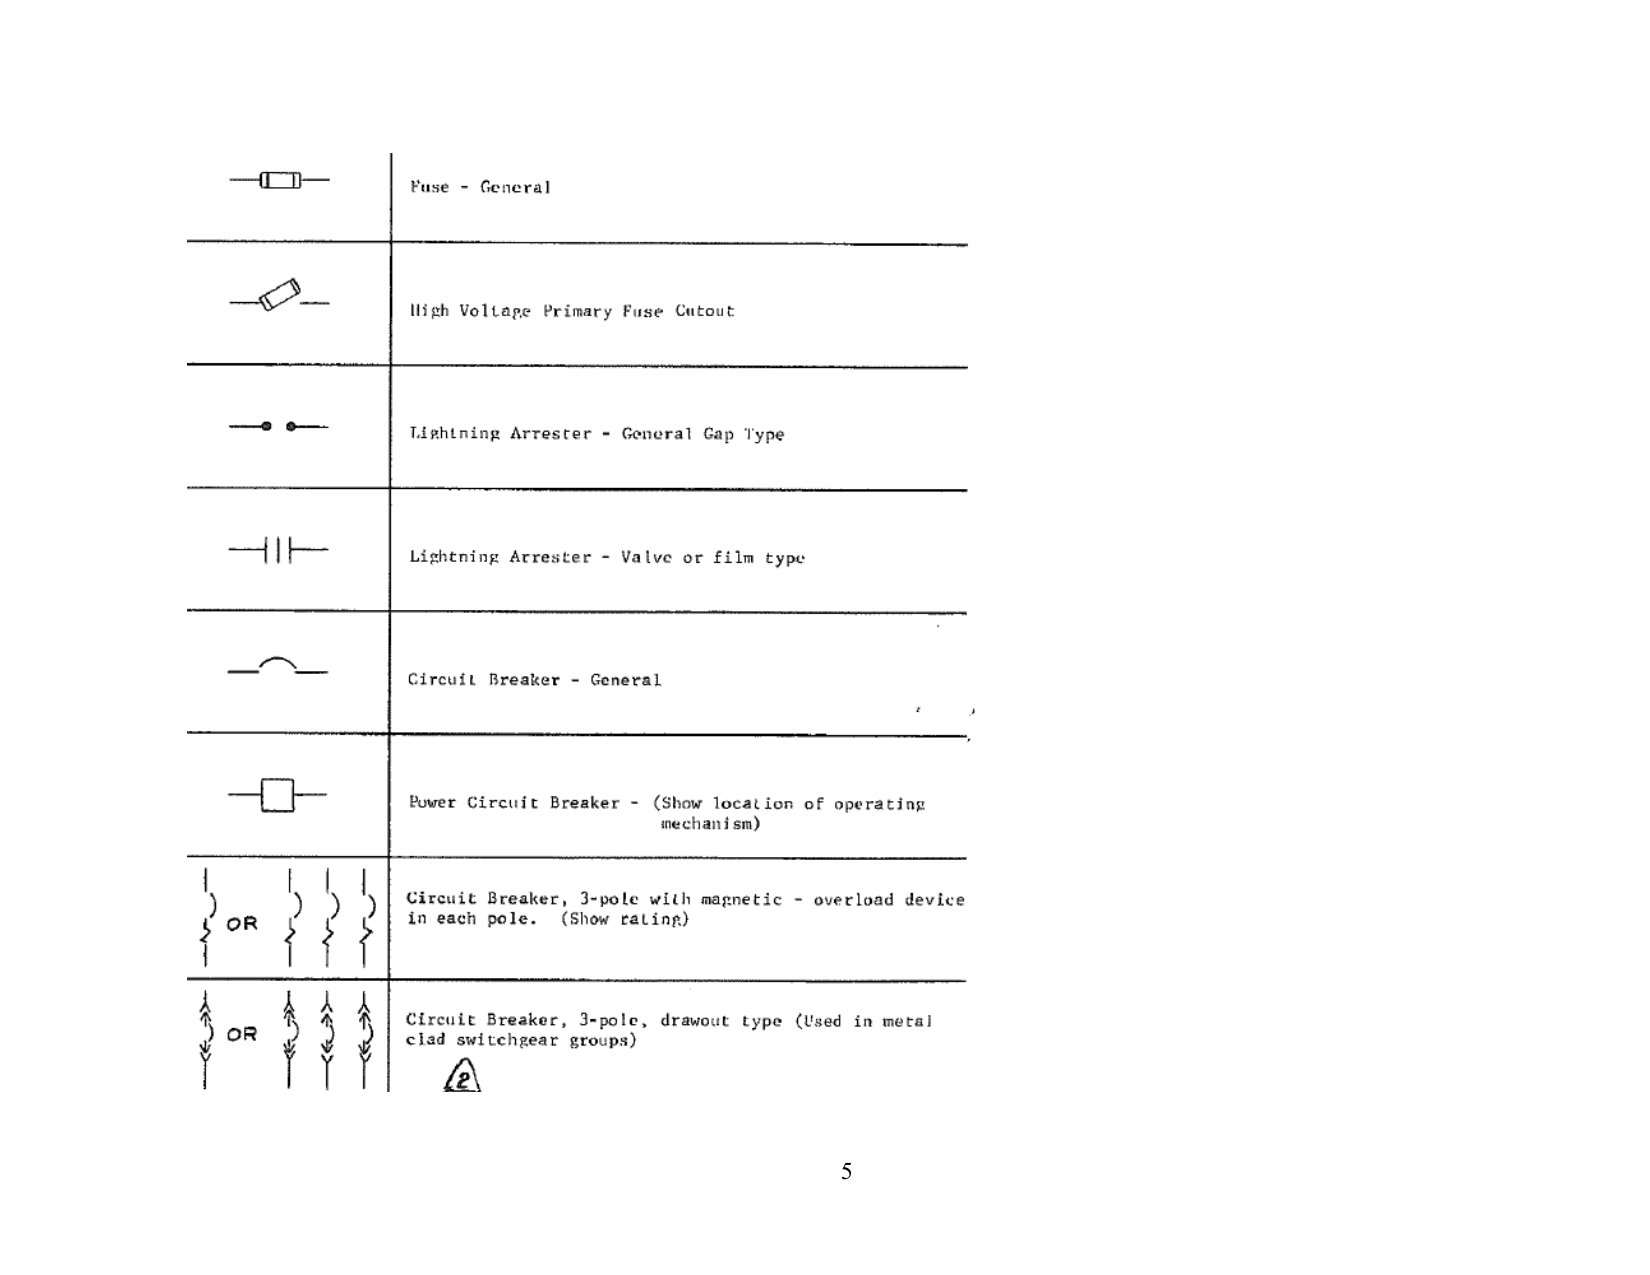circuit_breaker: (271, 862, 383, 979), (182, 636, 350, 702), (277, 992, 386, 1092), (173, 984, 221, 1085), (183, 862, 225, 972)
fuse: (171, 150, 371, 221), (174, 262, 366, 327)
